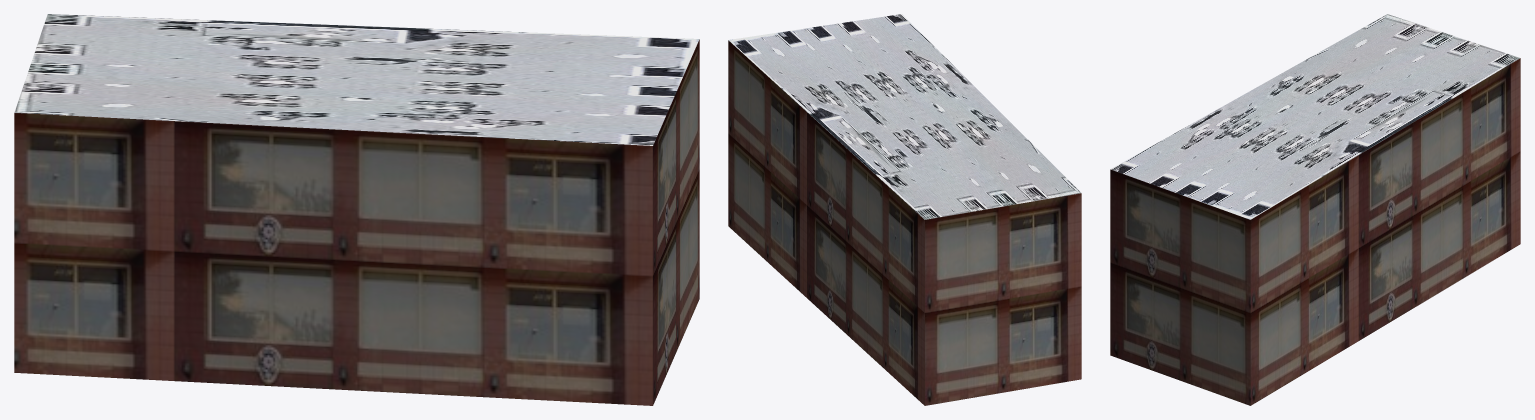
File: ResTex__829.fbx
3 renders of one model, left to right at view 1: azimuth 30°, elevation 25°; view 2: azimuth 150°, elevation 25°; view 3: azimuth 270°, elevation 25°, orthographic. The views are drawn at different scales.
Visible parts, largest first — view 1: CityEngineMaterial_13_m, CityEngineMaterial_4_m; view 2: CityEngineMaterial_13_m, CityEngineMaterial_4_m; view 3: CityEngineMaterial_13_m, CityEngineMaterial_4_m.
Boxes of the visible parts, box(x1,y1,x2,y2) form: CityEngineMaterial_13_m: box(14, 39, 699, 405); CityEngineMaterial_4_m: box(14, 14, 699, 145); CityEngineMaterial_13_m: box(728, 40, 1081, 405); CityEngineMaterial_4_m: box(728, 14, 1081, 219); CityEngineMaterial_13_m: box(1110, 58, 1520, 405); CityEngineMaterial_4_m: box(1111, 14, 1519, 219).
Bounding box in the file's own units: 14.24 × 6 × 11.99.
2 materials, 2 textured.
